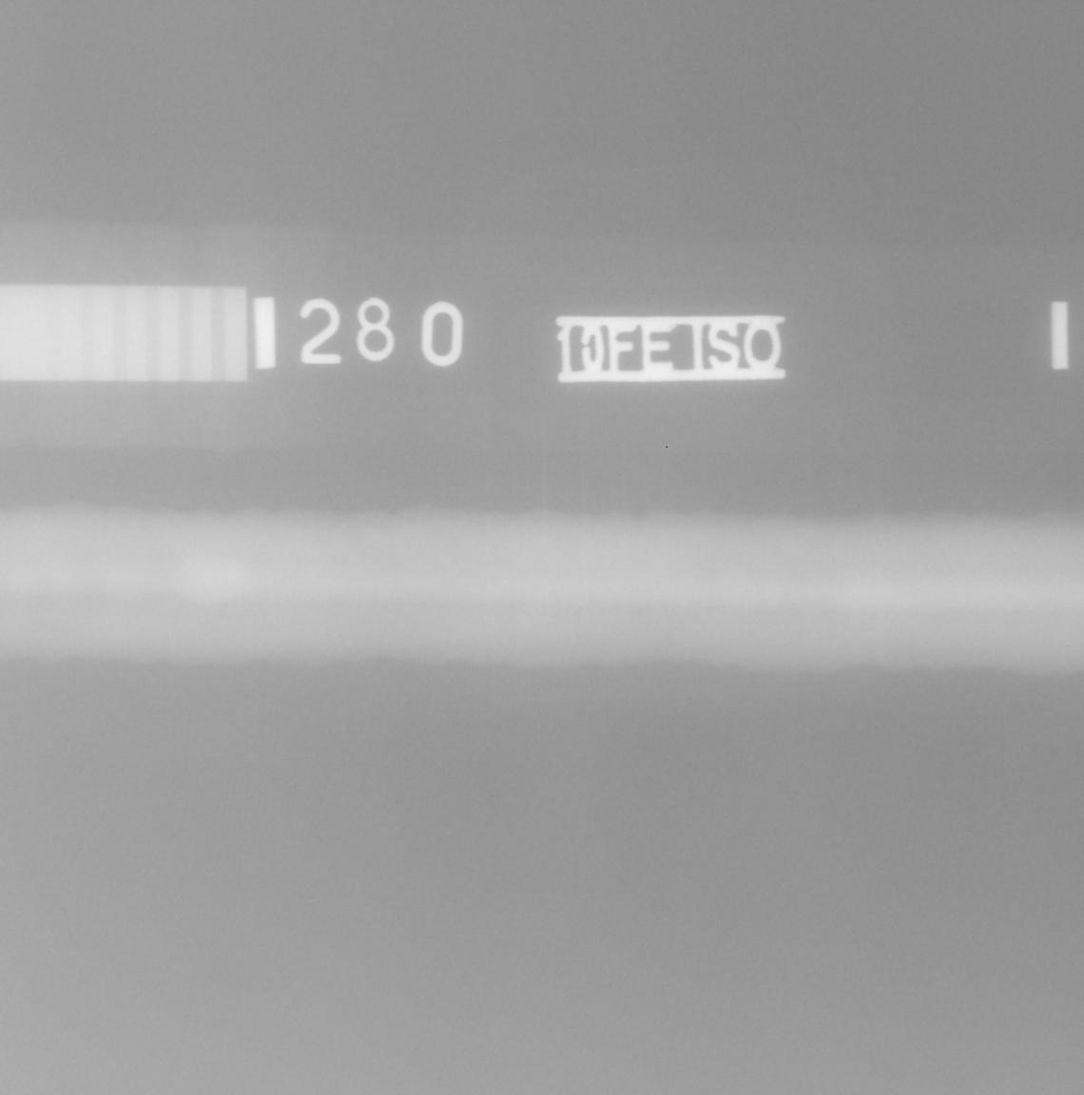Pore/Porosity: (606, 588, 613, 594)
